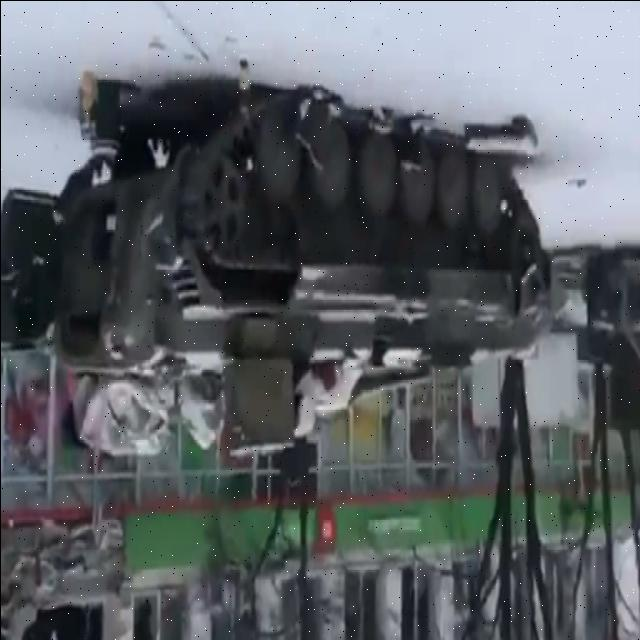APC-IFV: (0, 116, 542, 441)
